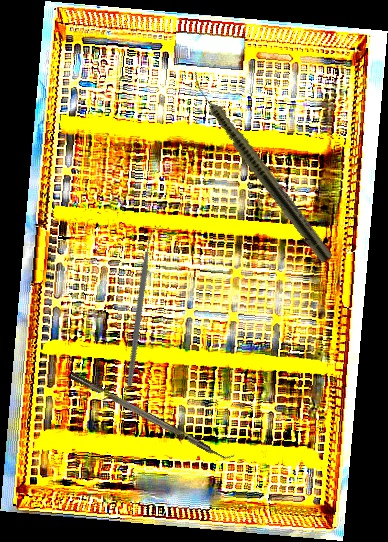Chopper: (73, 224, 217, 388), (69, 363, 237, 467)
Handpiece: (183, 70, 336, 264)
